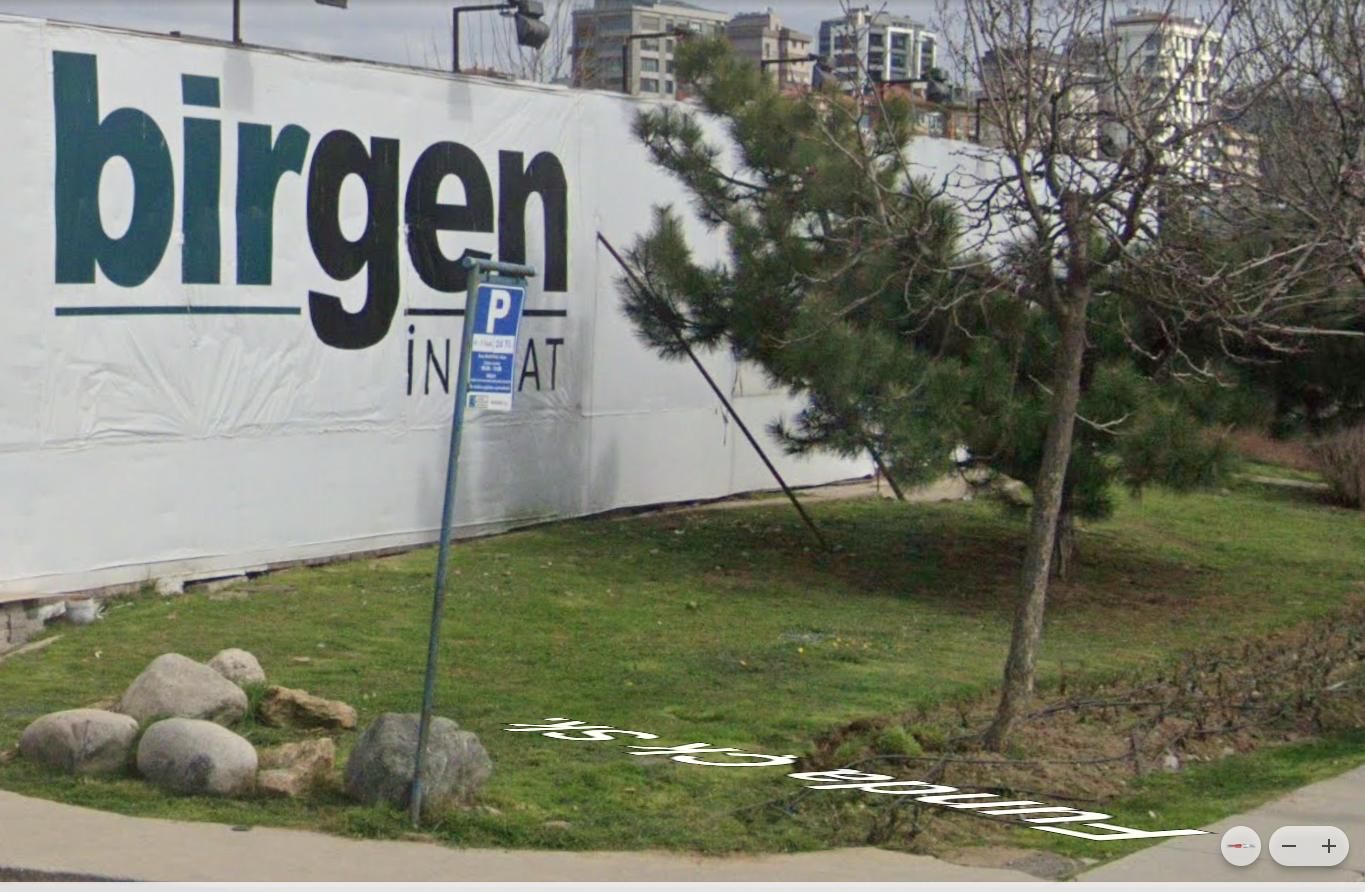park: (478, 284, 523, 339)
